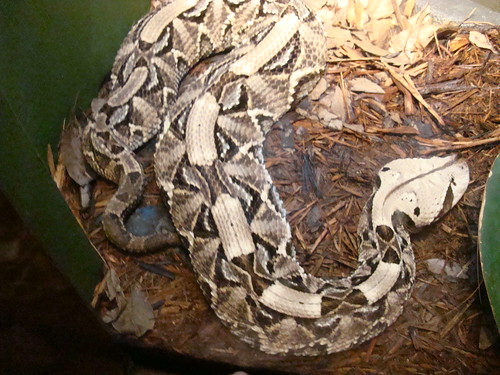animal: (73, 1, 469, 359)
